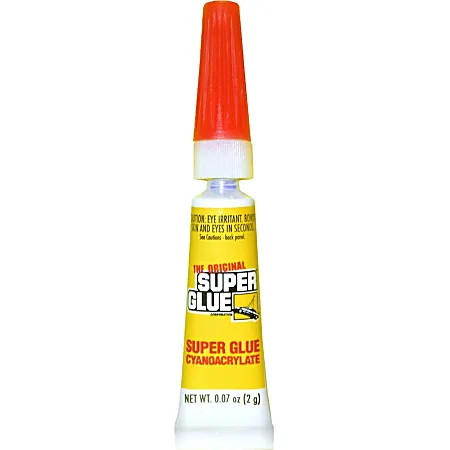toxic_waste: (177, 13, 266, 442)
